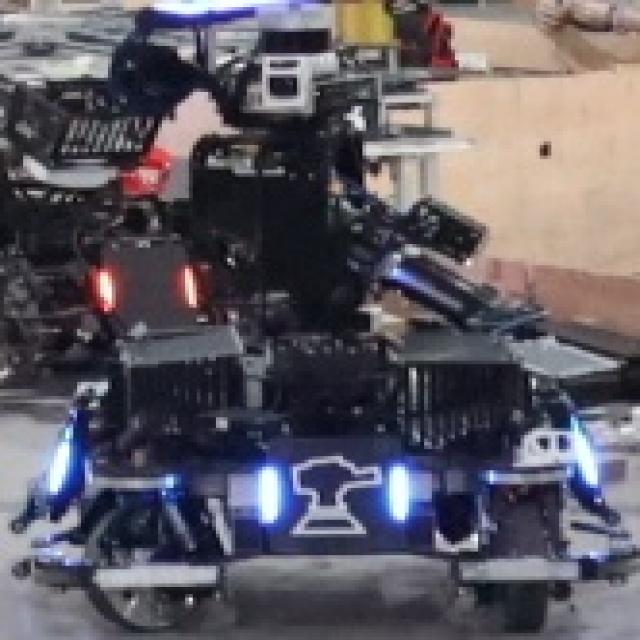Bs: (255, 438, 412, 552)
